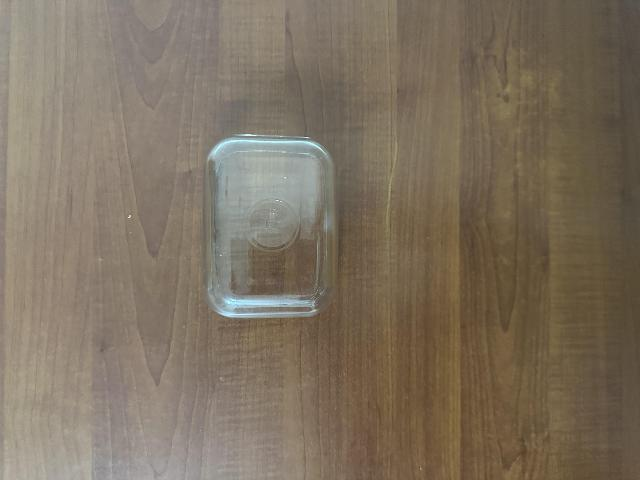Cam: (202, 132, 330, 319)
